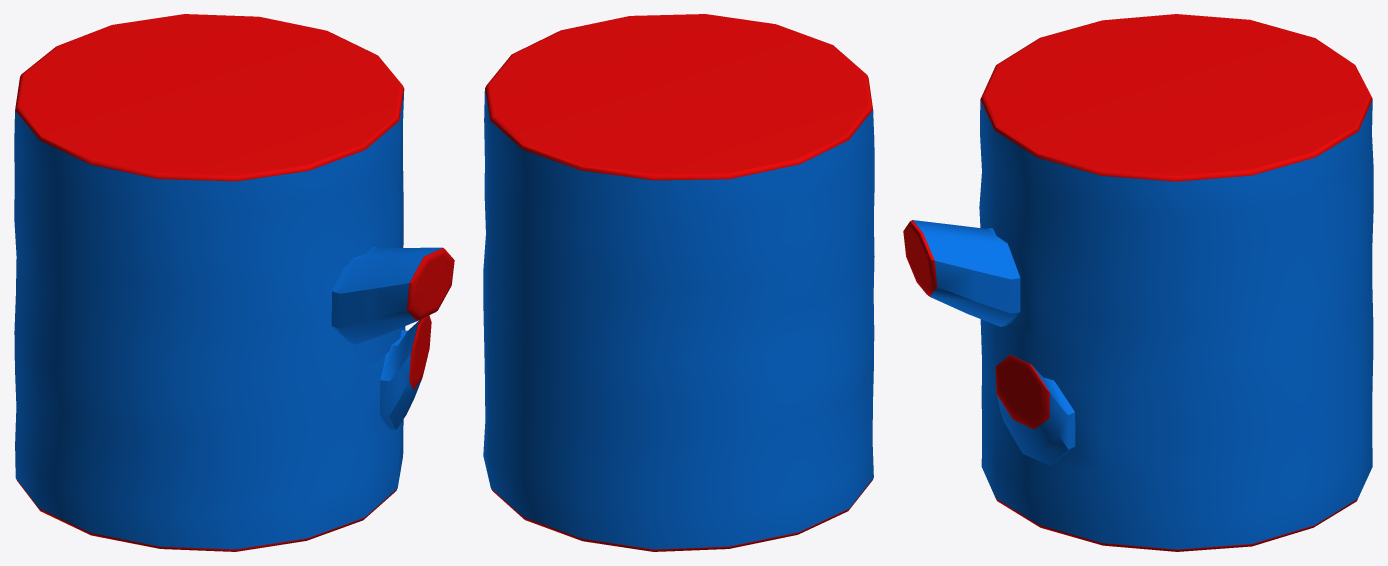
File: log_05.fbx
3 renders of one model, left to right at view 1: azimuth 30°, elevation 25°; view 2: azimuth 150°, elevation 25°; view 3: azimuth 270°, elevation 25°, orthographic.
Parts seen in each view (by area): view 1: generated_log_05; view 2: generated_log_05; view 3: generated_log_05.
Part boxes in pixels (x1,y1,x2,y2): generated_log_05: [14, 14, 454, 551]; generated_log_05: [483, 14, 874, 551]; generated_log_05: [903, 14, 1373, 551].
Size of the model in its own units: 2.92 by 3.08 by 3.49.
